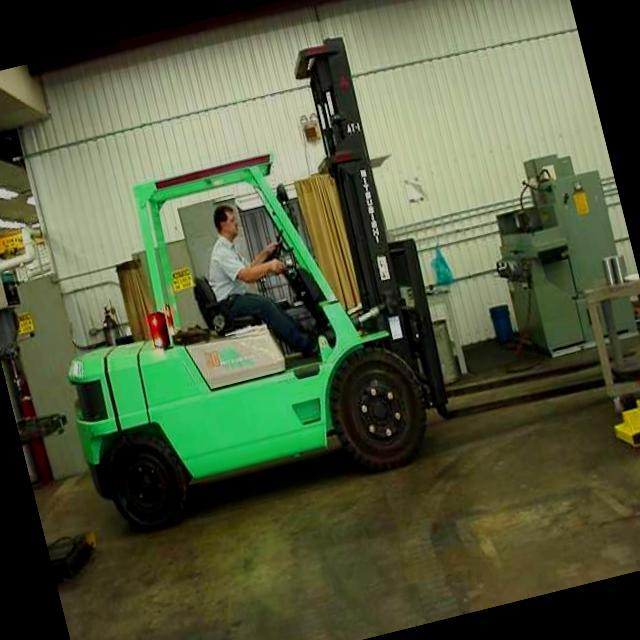driver: (179, 177, 340, 388)
forklift: (0, 24, 483, 543)
